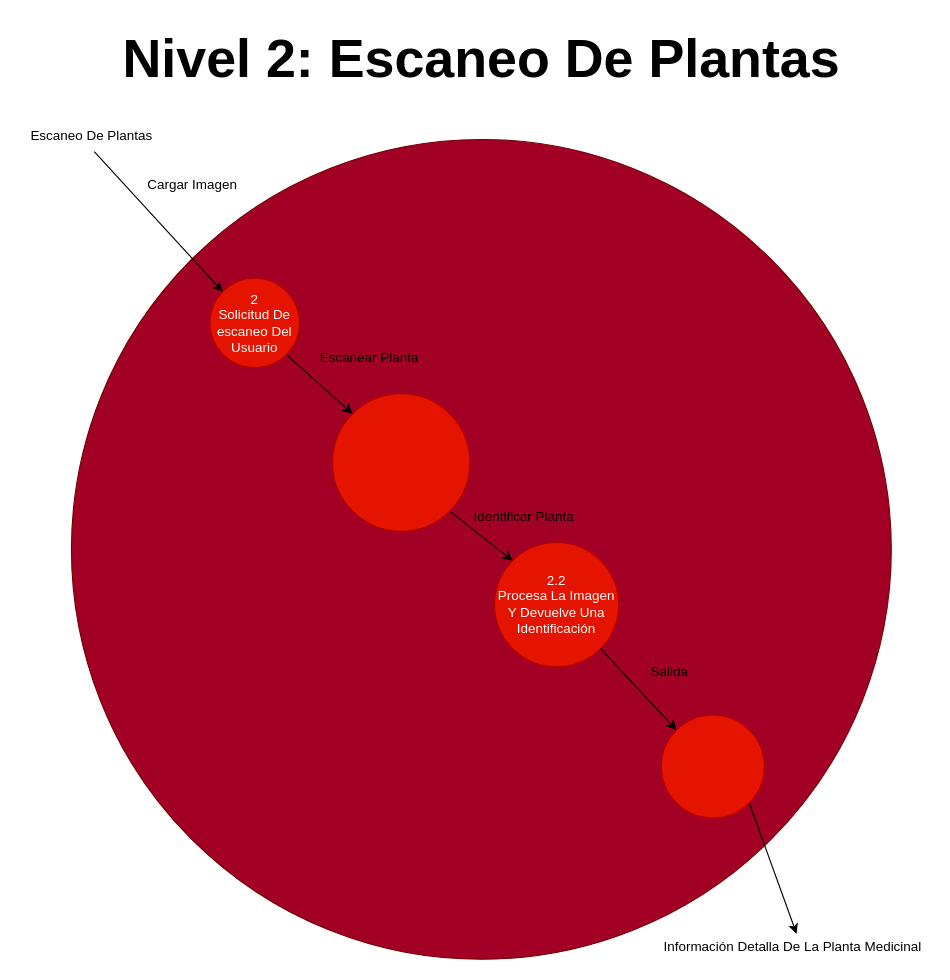
Image size: 950x980. Some labels were removed from this diagram. The shapes that lost their labels are listed below. From the top down, each one's centre as x and y in pixels, then its label:
At point (400, 462): "2.1 Recibe La Imagen De La Planta".
At point (712, 766): "2.3 Resultado Del Conocimiento De La Planta".
